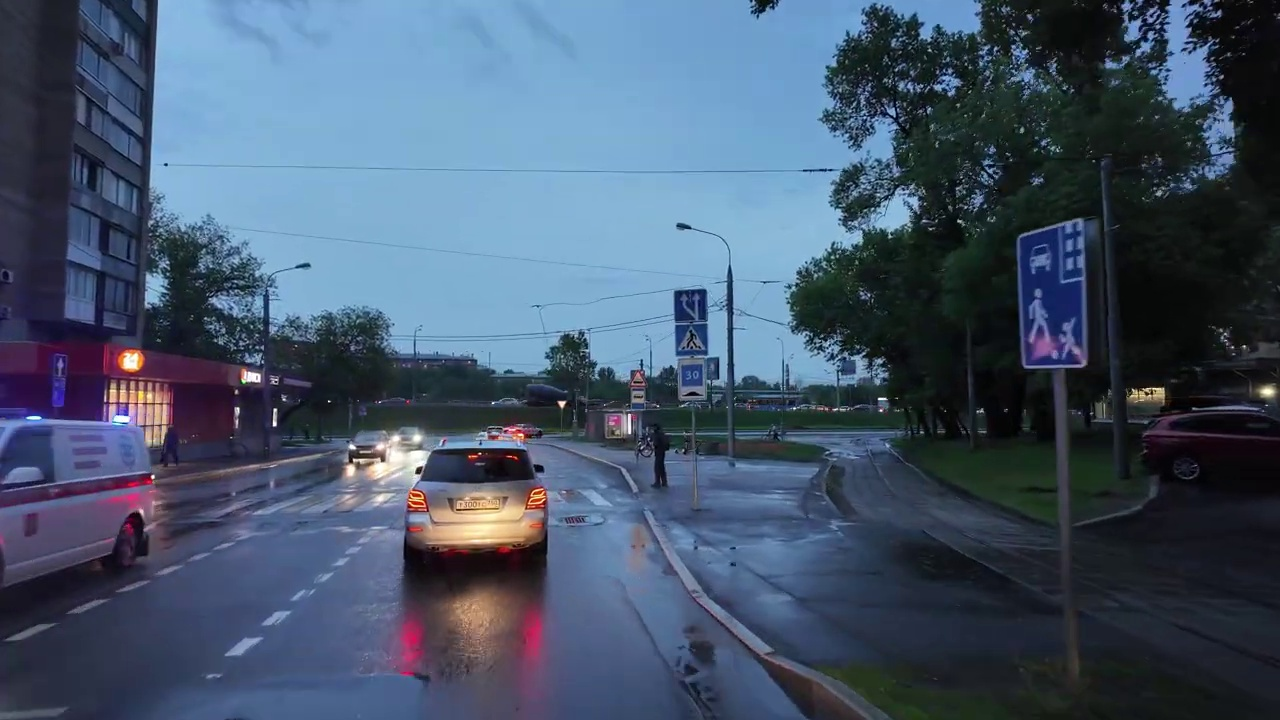apagada: (670, 216, 697, 238), (290, 255, 314, 276)
